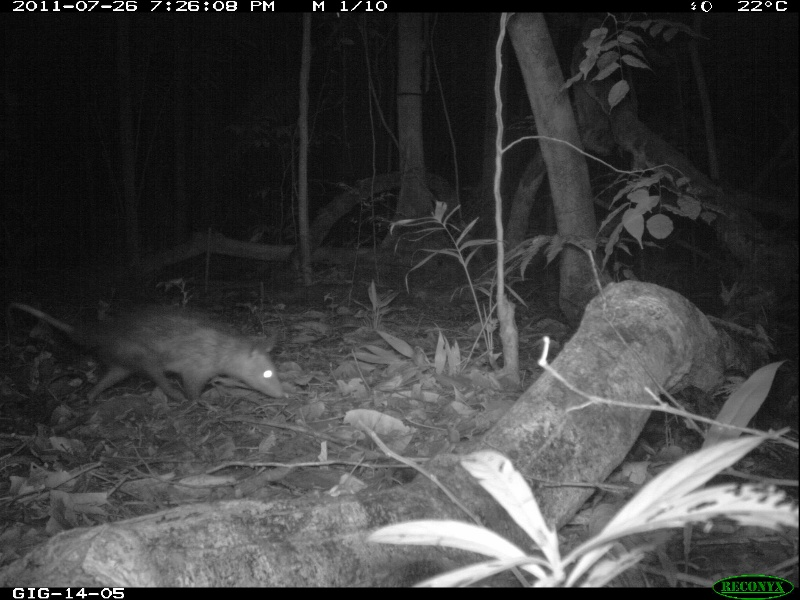opossum: (5, 290, 286, 404)
